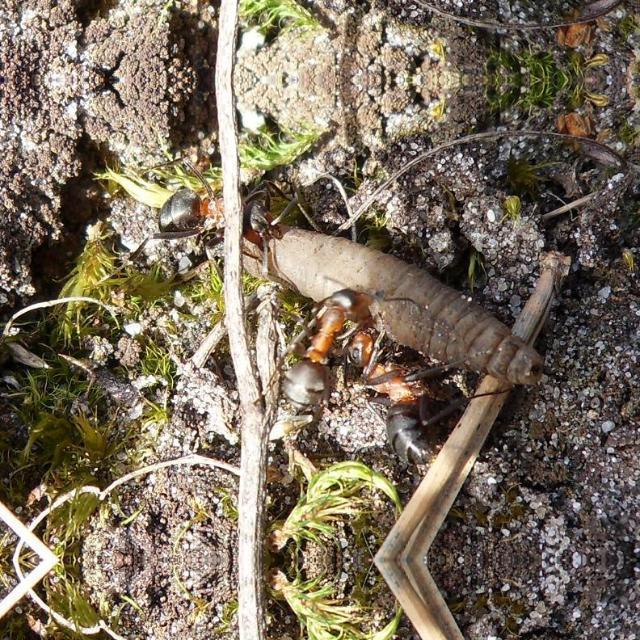Formica: (248, 267, 369, 435), (144, 152, 318, 266), (334, 297, 456, 458)
